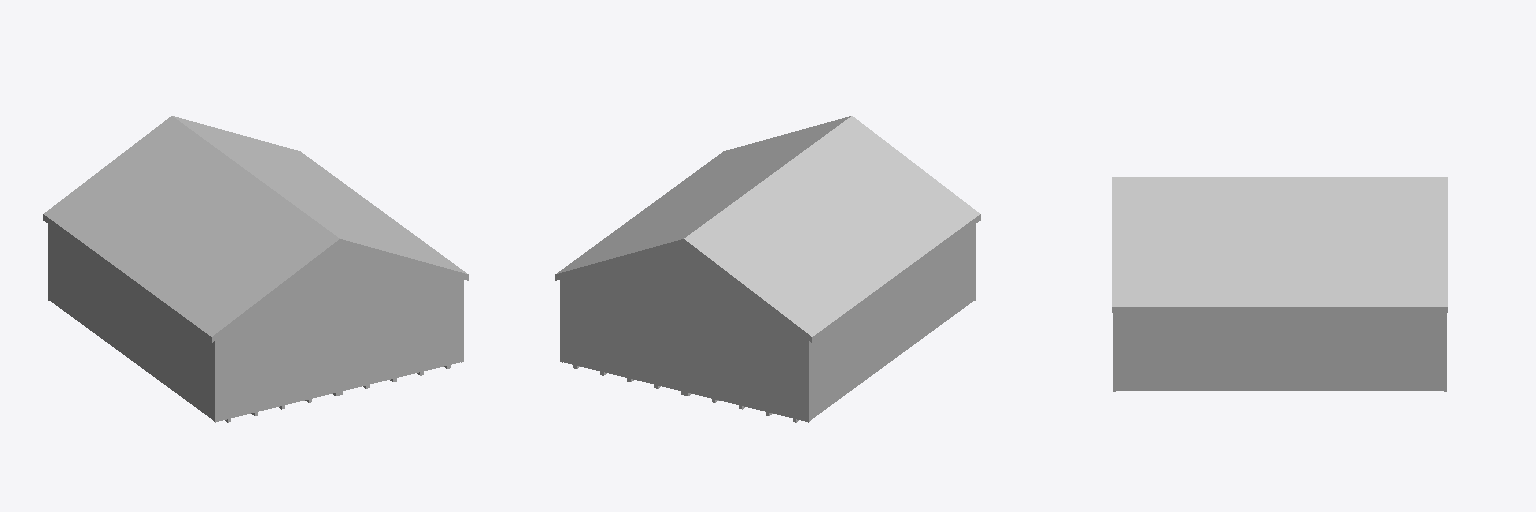
File: Double Garage 6-12 PITCH ROOF_24x28.obj
The picture shows the model from 3 angles: view 1: azimuth 30°, elevation 25°; view 2: azimuth 150°, elevation 25°; view 3: azimuth 270°, elevation 25°; orthographic projection.
Visible parts, largest first — view 1: Double Garage 6-12 PITCH ROOF_24x28.obj; view 2: Double Garage 6-12 PITCH ROOF_24x28.obj; view 3: Double Garage 6-12 PITCH ROOF_24x28.obj.
Boxes of the visible parts, <box> form: Double Garage 6-12 PITCH ROOF_24x28.obj: <box>43,116,468,422</box>; Double Garage 6-12 PITCH ROOF_24x28.obj: <box>555,116,980,422</box>; Double Garage 6-12 PITCH ROOF_24x28.obj: <box>1112,177,1447,391</box>.
Bounding box in the file's own units: 7.62 × 4.46 × 8.64.